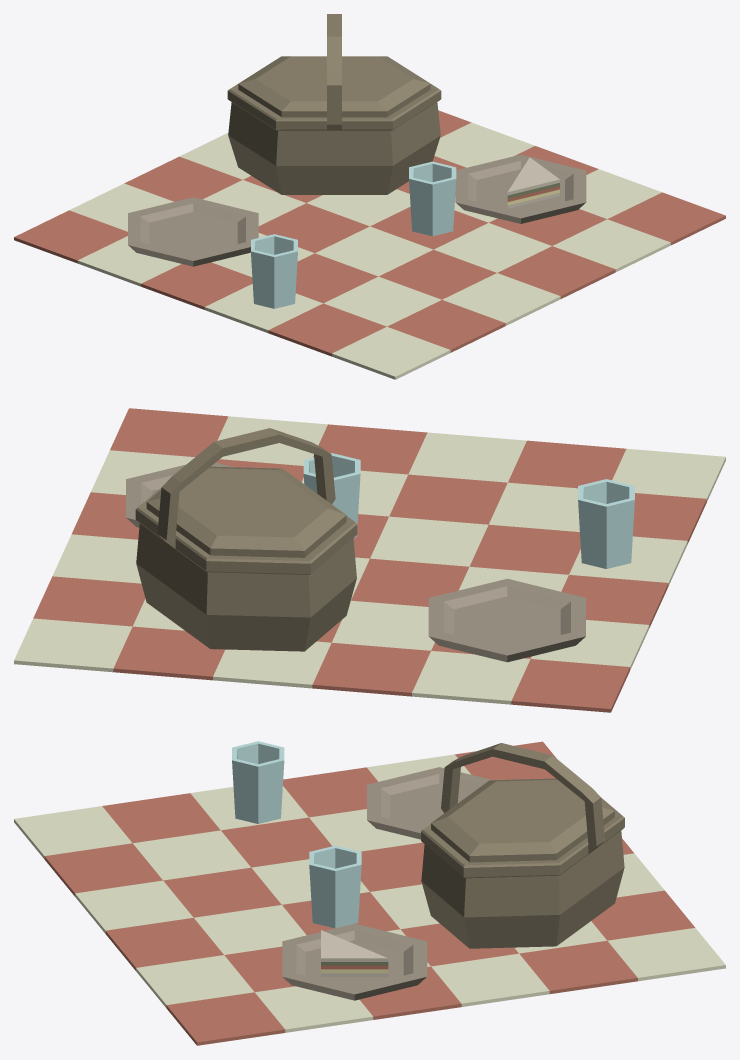
File: PicknickScean.fbx
3 views of the same model, one above another, from view 1: azimuth 30°, elevation 25°; view 2: azimuth 150°, elevation 25°; view 3: azimuth 270°, elevation 25° (orthographic). The views are drawn at different scales.
Parts seen in each view (by area): view 1: PicknickScean; view 2: PicknickScean; view 3: PicknickScean.
Boxes of the visible parts, left/top/right/bottom form: PicknickScean: left=14, top=14, right=725, bottom=379; PicknickScean: left=14, top=408, right=725, bottom=712; PicknickScean: left=14, top=741, right=725, bottom=1045.
Size of the model in its own units: 8.5 by 2.13 by 8.5.
